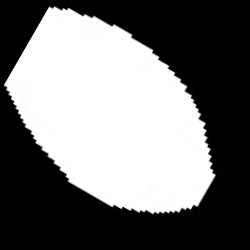spot: (5, 6, 213, 215)
